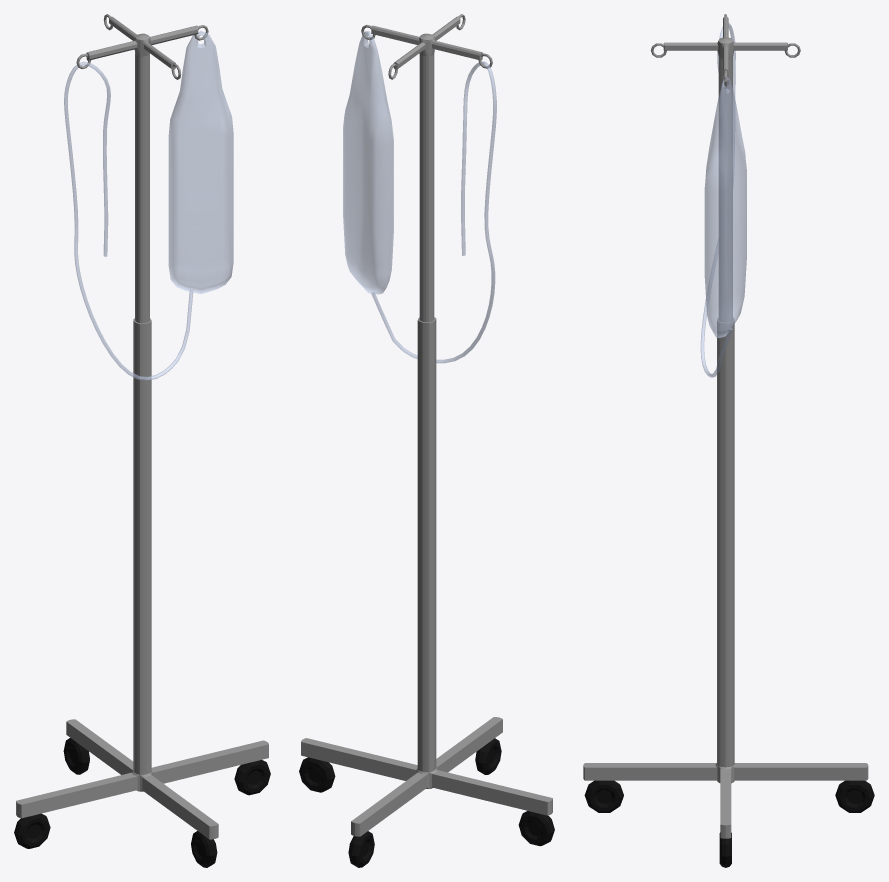
File: IV_drip_withtexture.fbx
3 renders of one model, left to right at view 1: azimuth 30°, elevation 25°; view 2: azimuth 150°, elevation 25°; view 3: azimuth 270°, elevation 25°, orthographic.
Parts seen in each view (by area): view 1: IV_stand_obj, IV_bag_obj, IV_wheels_obj, IV_cord_obj; view 2: IV_stand_obj, IV_bag_obj, IV_wheels_obj, IV_cord_obj; view 3: IV_stand_obj, IV_bag_obj, IV_wheels_obj, IV_cord_obj.
Part boxes in pixels (left/top/right/bottom): IV_stand_obj: left=16, top=16, right=268, bottom=839; IV_bag_obj: left=168, top=31, right=233, bottom=293; IV_wheels_obj: left=14, top=738, right=270, bottom=867; IV_cord_obj: left=64, top=61, right=193, bottom=380; IV_stand_obj: left=301, top=16, right=552, bottom=836; IV_bag_obj: left=343, top=31, right=393, bottom=294; IV_wheels_obj: left=299, top=738, right=554, bottom=867; IV_cord_obj: left=371, top=61, right=496, bottom=363; IV_stand_obj: left=583, top=16, right=868, bottom=838; IV_bag_obj: left=704, top=77, right=746, bottom=337; IV_wheels_obj: left=584, top=780, right=874, bottom=867; IV_cord_obj: left=700, top=23, right=735, bottom=377.
Size of the model in its own units: 0.9153 by 2.69 by 0.9198.
